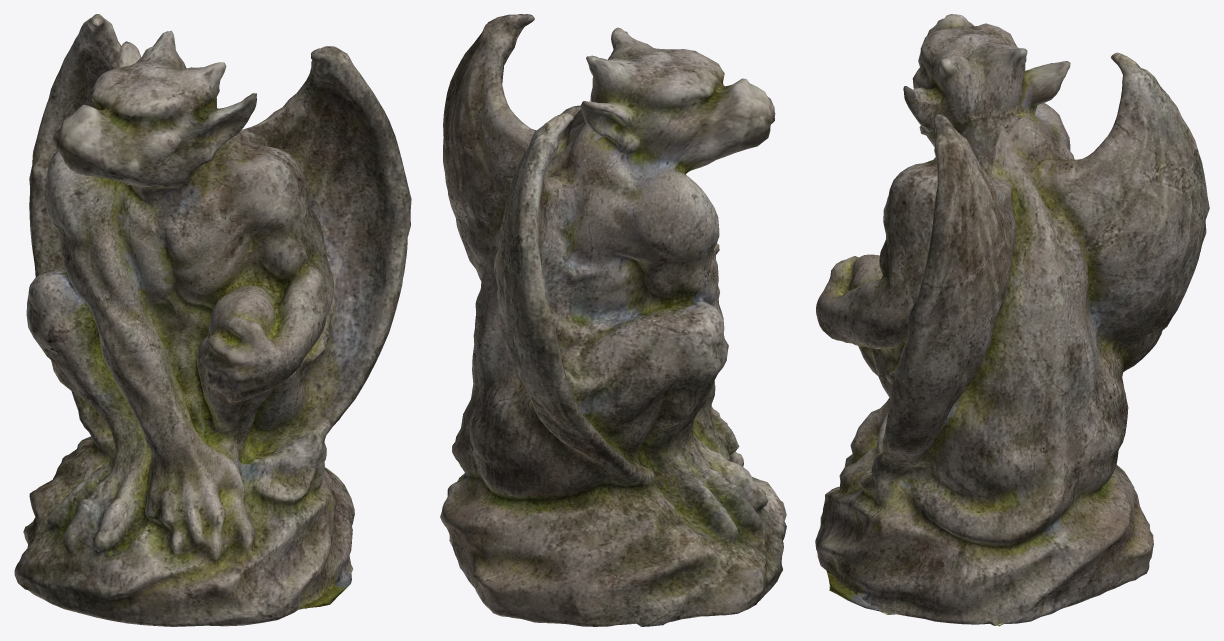
The model's file is gargoyle.glb.
The picture shows the model from 3 angles, left to right: view 1: azimuth 30°, elevation 25°; view 2: azimuth 150°, elevation 25°; view 3: azimuth 270°, elevation 25°; orthographic projection. The views are drawn at different scales.
Visible parts, largest first — view 1: geo1; view 2: geo1; view 3: geo1.
Boxes of the visible parts, x1,y1,x2,y2 form: geo1: (14, 14, 411, 626); geo1: (440, 14, 786, 626); geo1: (815, 14, 1209, 626).
Bounding box in the file's own units: 1.43 × 2 × 1.4.
1 material, 1 textured.
